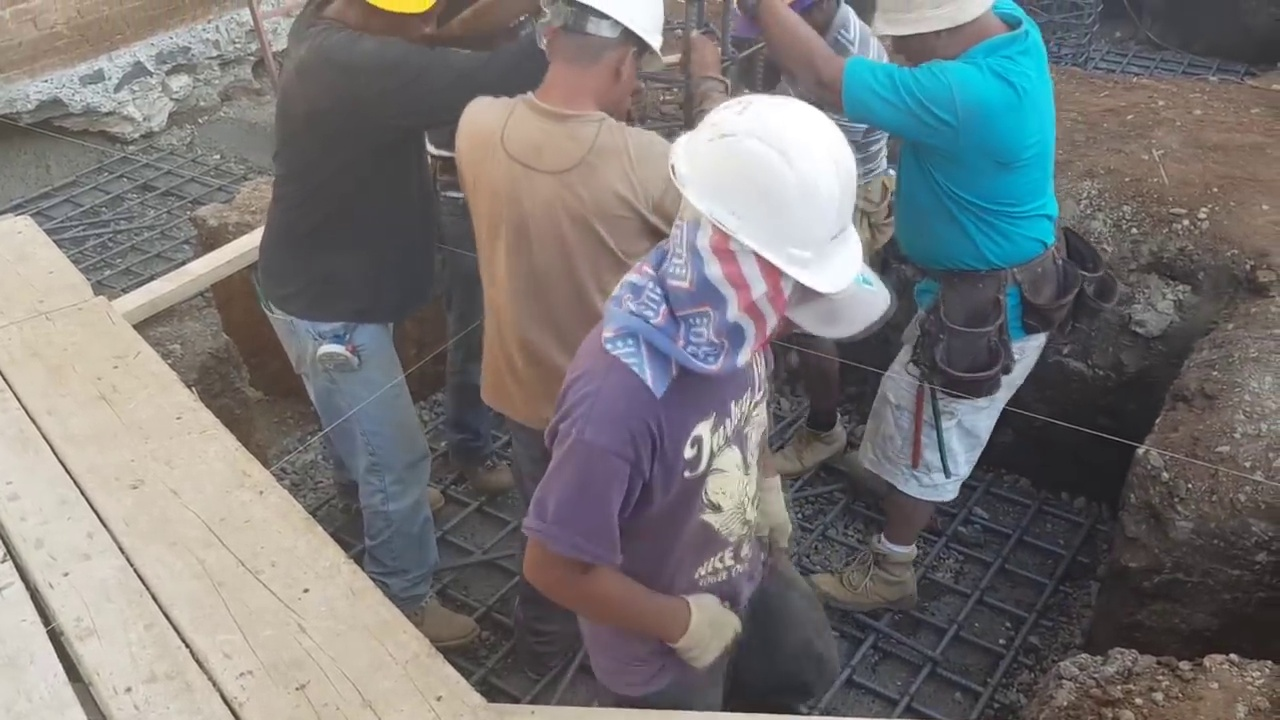helmet: (677, 95, 864, 284), (546, 2, 666, 60)
helmet-off: (861, 0, 1027, 66), (310, 2, 441, 56)
helmet-on: (625, 90, 873, 371), (518, 0, 664, 124)
person: (524, 82, 885, 719), (734, 0, 1064, 588), (248, 0, 501, 656), (460, 12, 714, 442), (736, 0, 904, 479)
